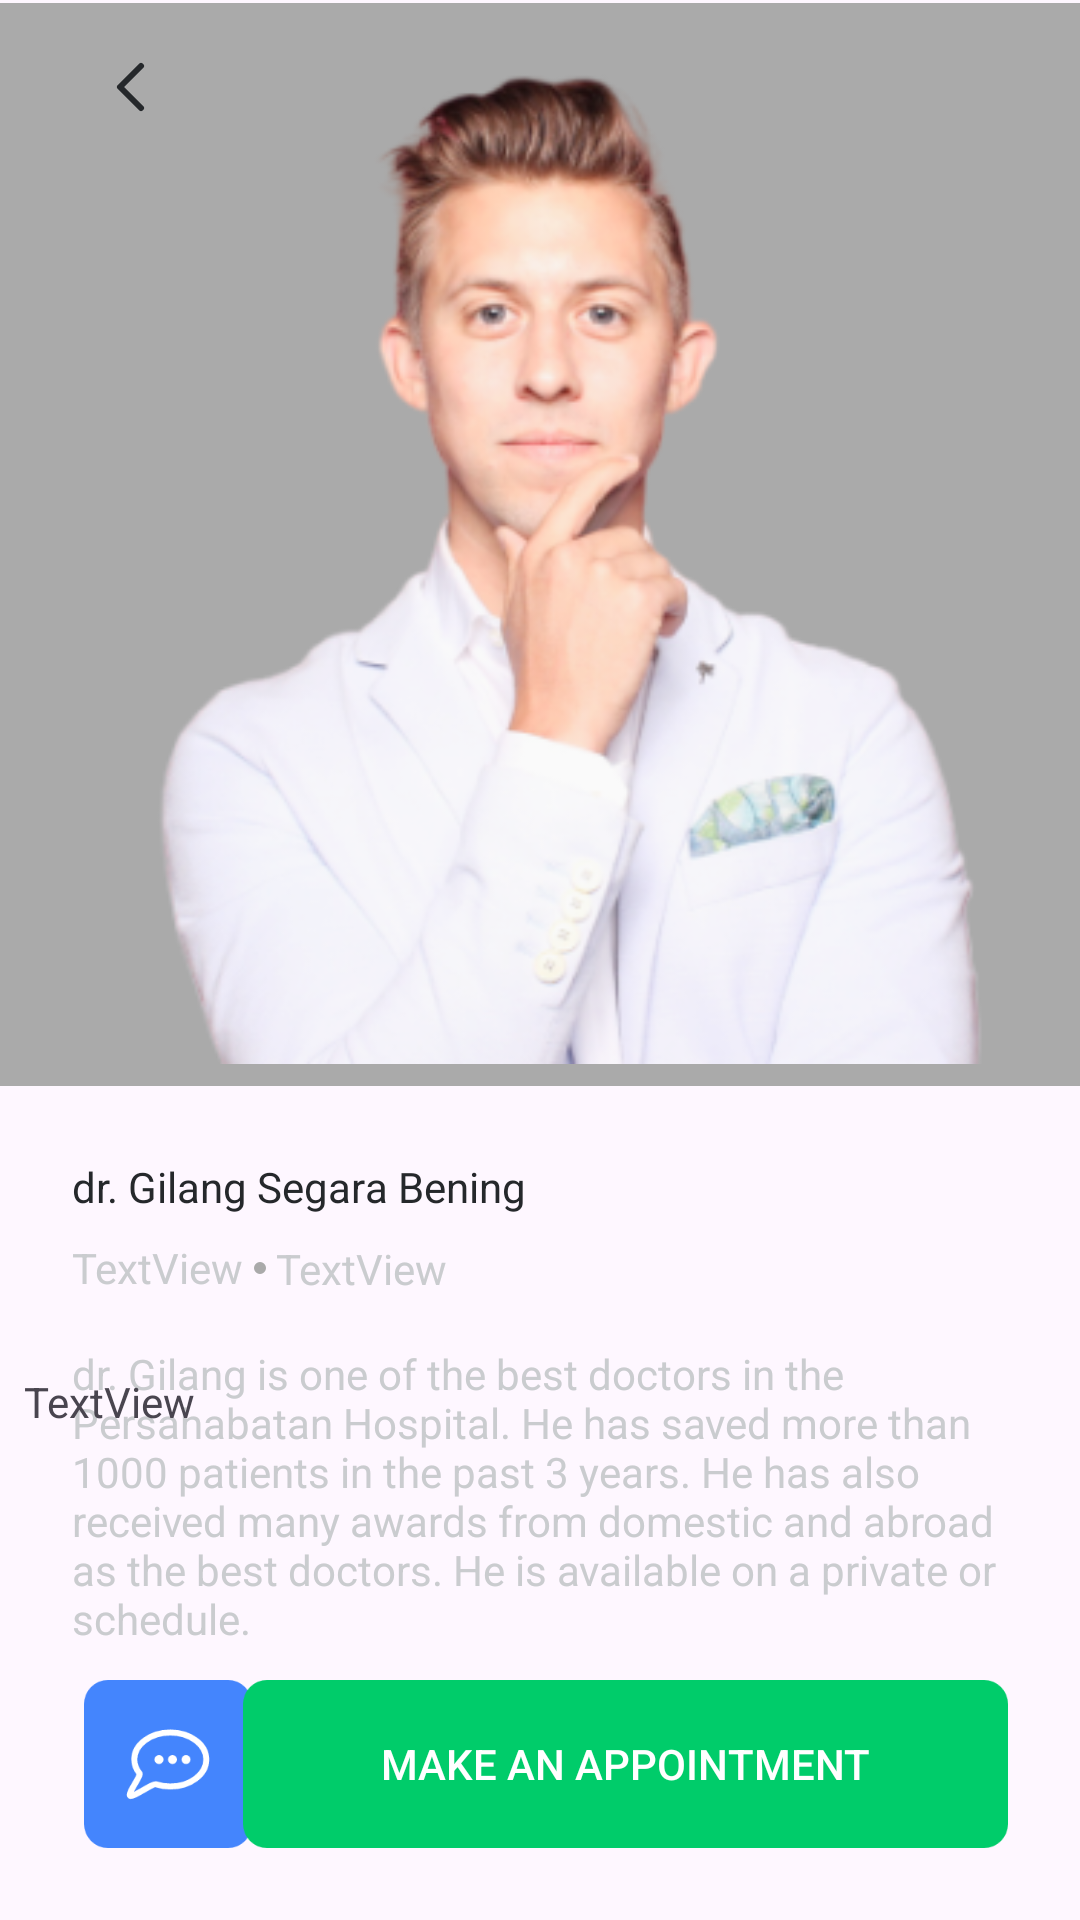

Named icons in this screenshot (1080*1920) and their centers, [x,y]:
back: [130,87]
message: [168,1764]
